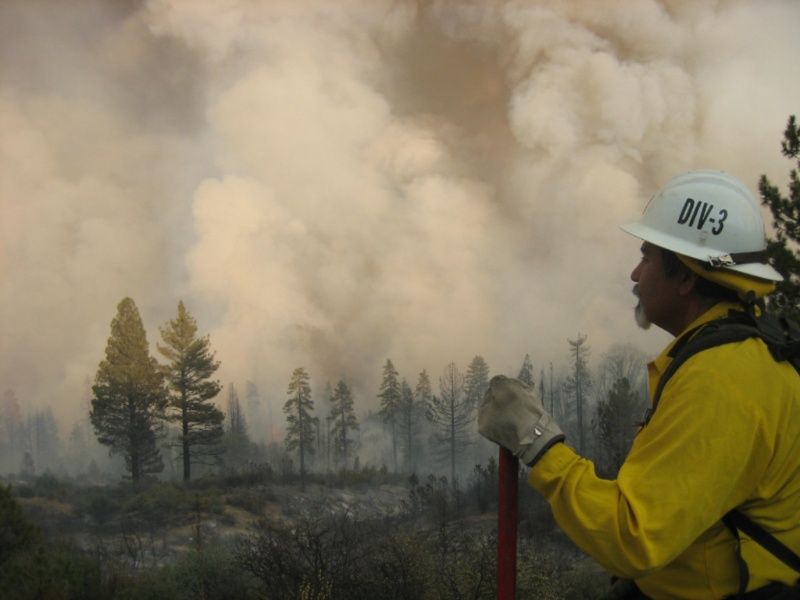helmet: (623, 167, 776, 291)
jacket: (549, 322, 797, 600)
